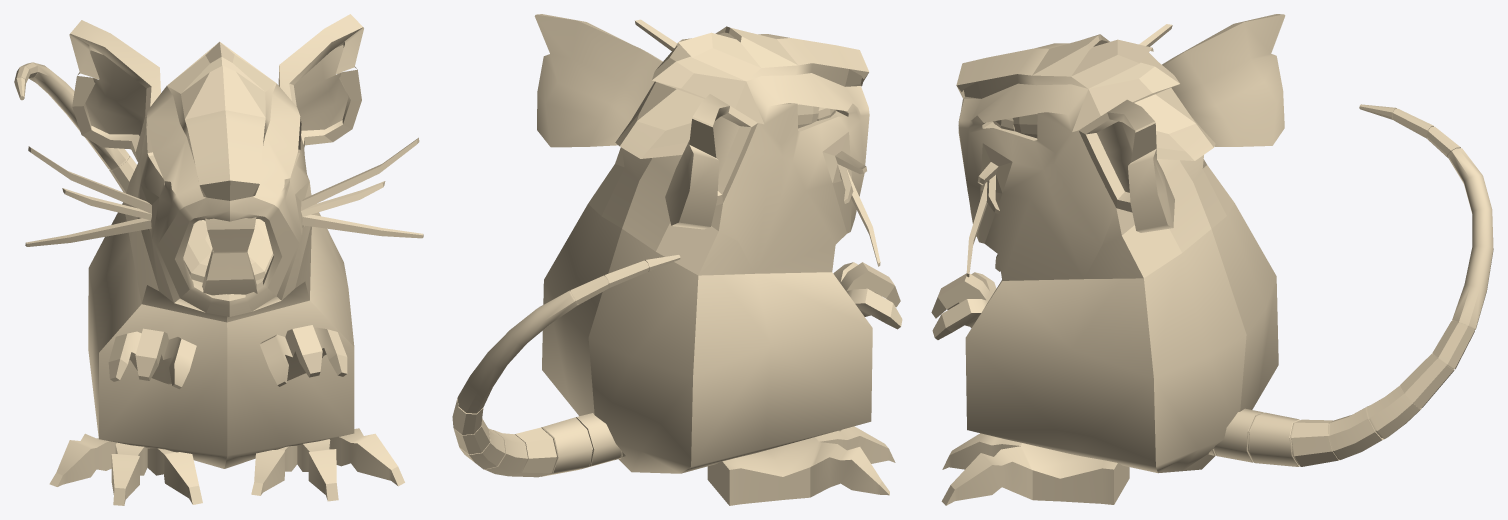
The model's file is raticate.glb.
3 views of the same model, side by side, from view 1: azimuth 30°, elevation 25°; view 2: azimuth 150°, elevation 25°; view 3: azimuth 270°, elevation 25° (orthographic). The views are drawn at different scales.
Visible parts, largest first — view 1: Node; view 2: Node; view 3: Node.
Part boxes in pixels (x1,y1,x2,y2): Node: [14, 14, 423, 505]; Node: [452, 14, 902, 505]; Node: [931, 14, 1493, 505].
Size of the model in its own units: 6.74 by 7.8 by 9.49.
